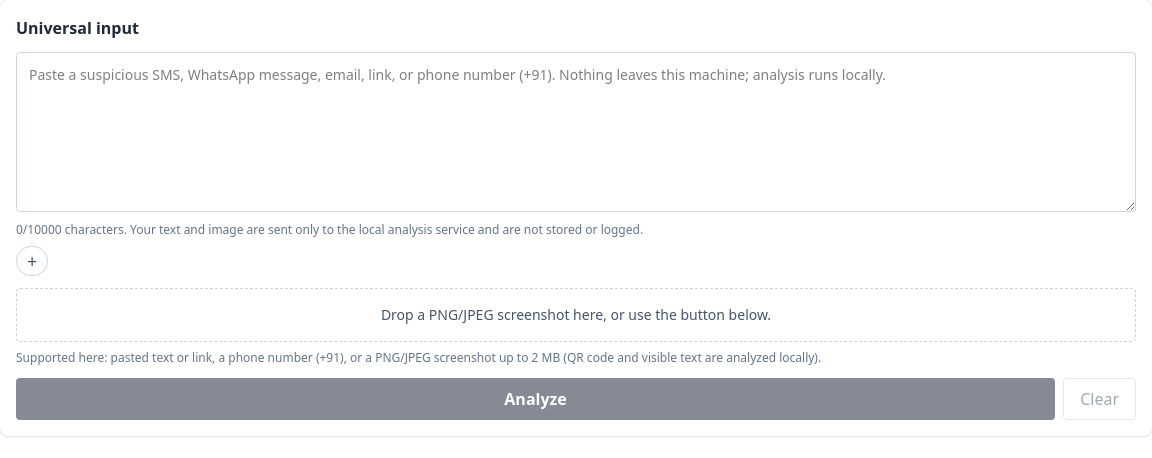
Scenario: InputPanel › enables the submit button once text is entered and shows the detected type
Type "Click http://prize-lottery.tk/claim to win" into the text box. click: {"x": 576, "y": 132}
box: top-left (16, 52), bottom-right (1136, 212)
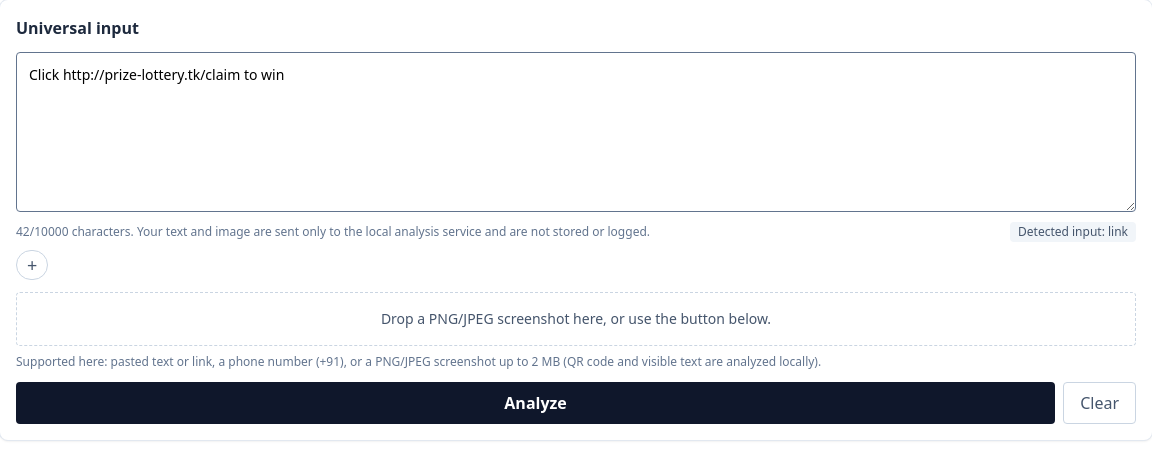
Expected: the button "Analyze" is enabled, top-left (16, 382), bottom-right (1055, 424)
Expected: the text "Detected input: link" is shown, top-left (1010, 222), bottom-right (1136, 242)
